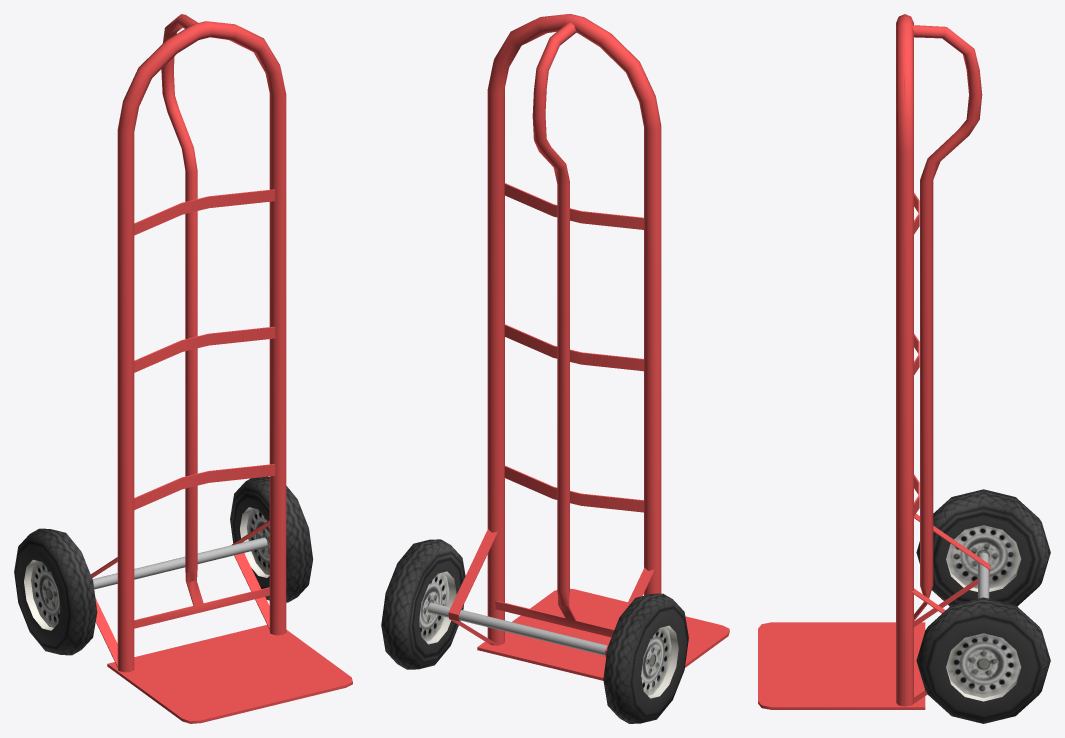
File: HCHanddolly.fbx
The picture shows the model from 3 angles, left to right: view 1: azimuth 30°, elevation 25°; view 2: azimuth 150°, elevation 25°; view 3: azimuth 270°, elevation 25°; orthographic projection. The views are drawn at different scales.
Parts seen in each view (by area): view 1: Handtruck_bottom; view 2: Handtruck_bottom; view 3: Handtruck_bottom.
Boxes of the visible parts, x1=… form: Handtruck_bottom: x1=14, y1=14, x2=352, y2=723; Handtruck_bottom: x1=381, y1=14, x2=729, y2=723; Handtruck_bottom: x1=758, y1=14, x2=1050, y2=723.
Bounding box in the file's own units: 0.3193 × 0.325 × 0.7922.
